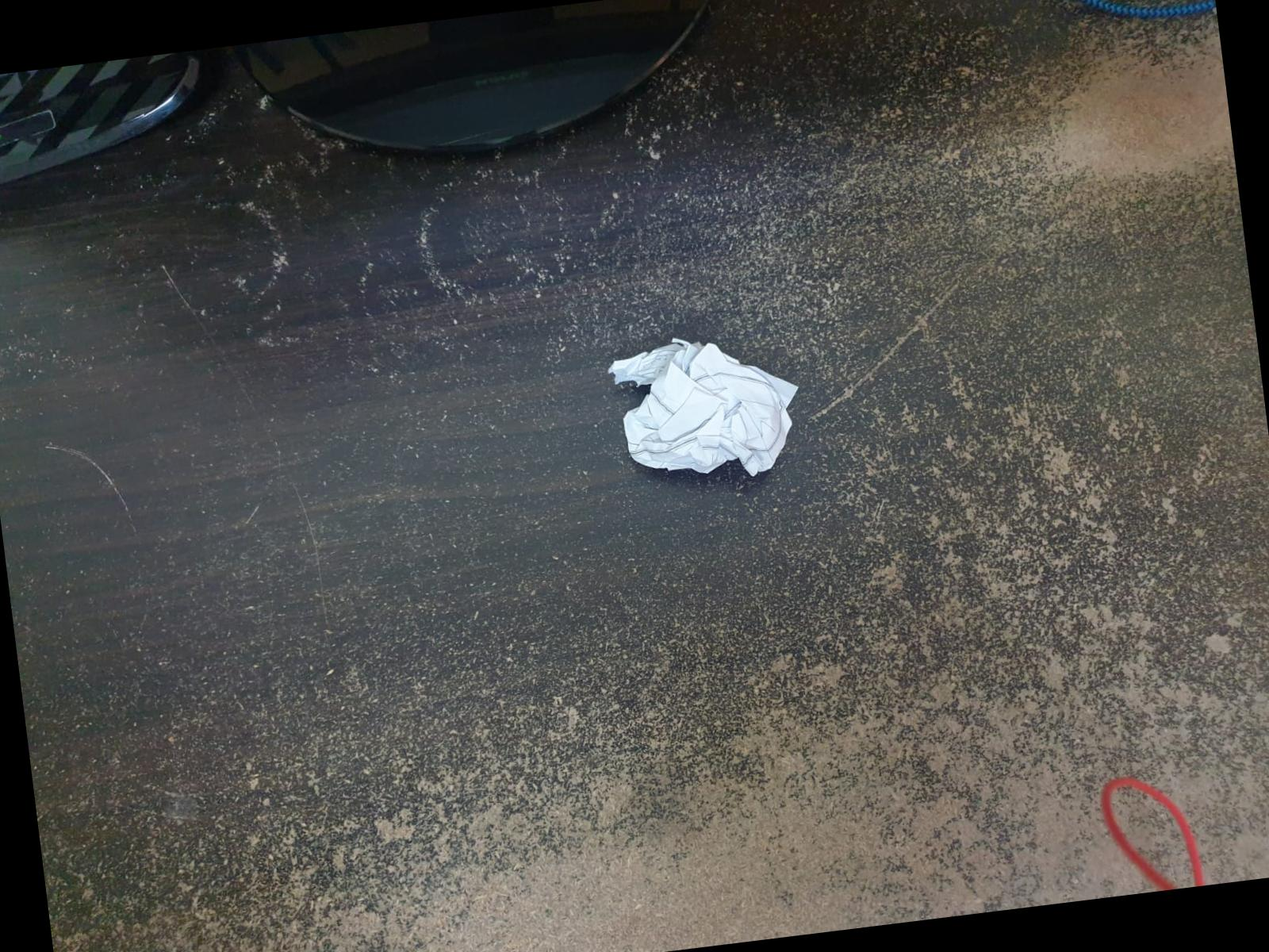Kertas: (607, 334, 814, 491)
